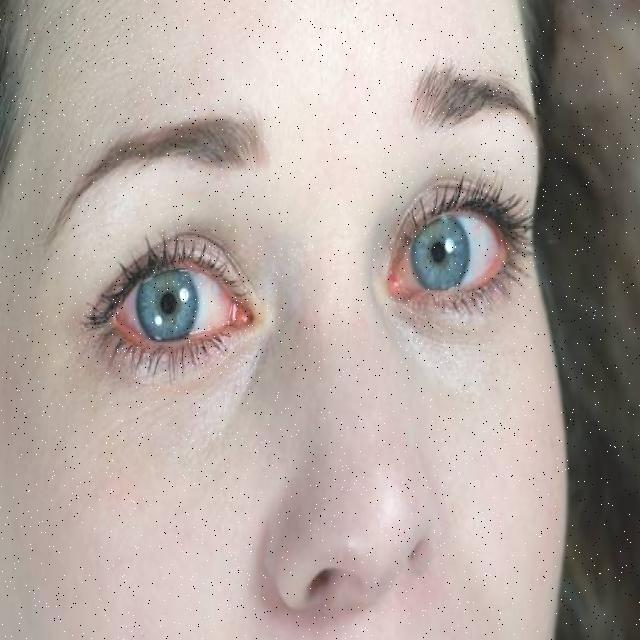Conjunctivitis: (112, 281, 262, 347), (380, 238, 510, 298)
